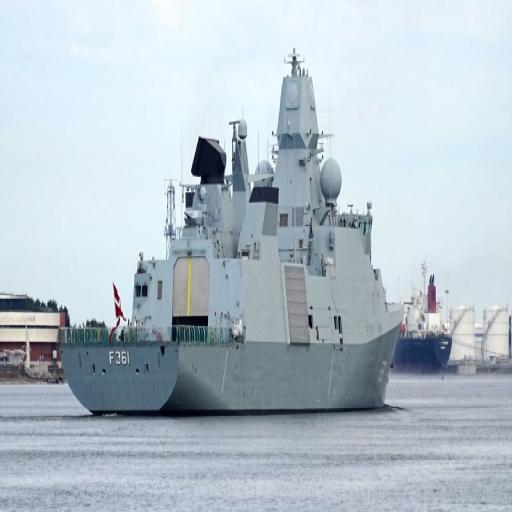Fragata: (55, 35, 409, 423)
